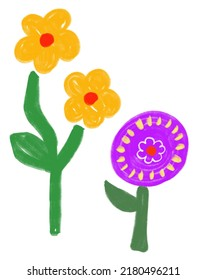flower: (9, 4, 122, 242)
